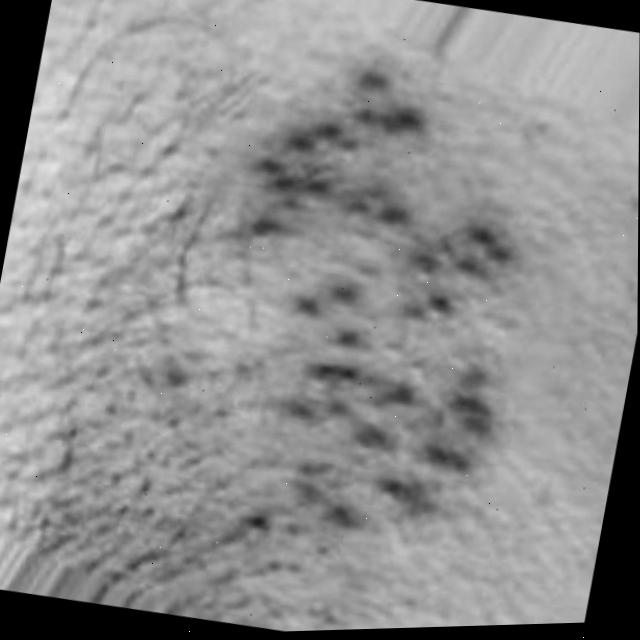Shingles: (185, 48, 554, 558)
